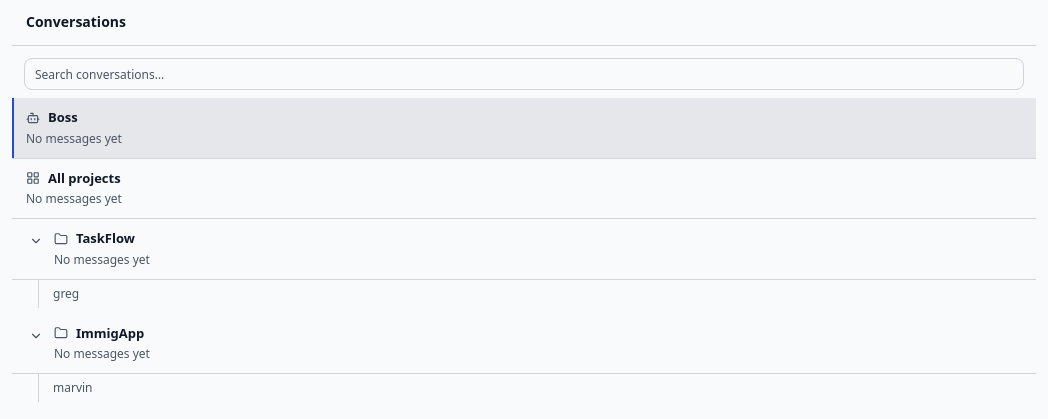
it: ChatNav › filters the list by name
The image size is (1048, 419).
Step 1. Type "ImmigApp" into the field with placeholder "Search conversations…" → {"x": 524, "y": 74}, box [24,58,1024,90]
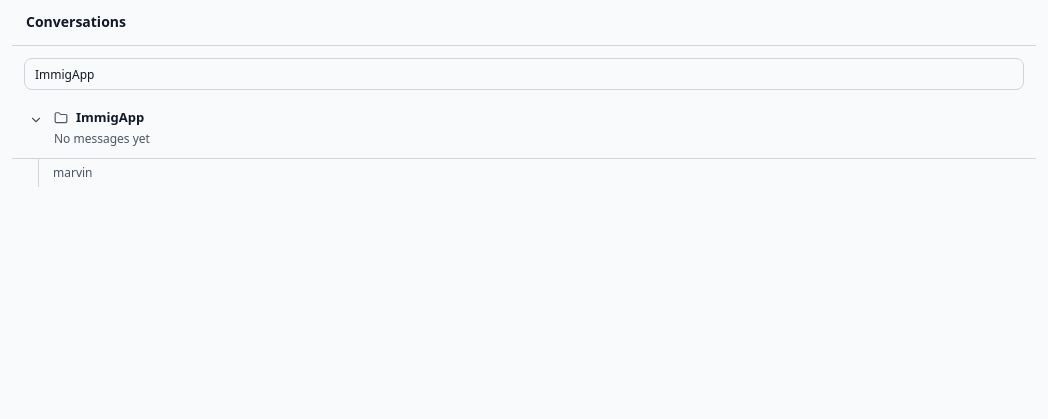
Expected: the text "ImmigApp" is shown, [76,108,144,128]
Result: the button "TaskFlow" is gone
